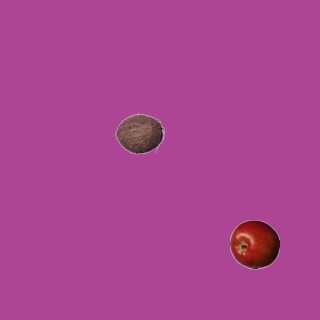Apple Braeburn: (229, 219, 279, 269)
Cocos: (114, 108, 164, 158)
